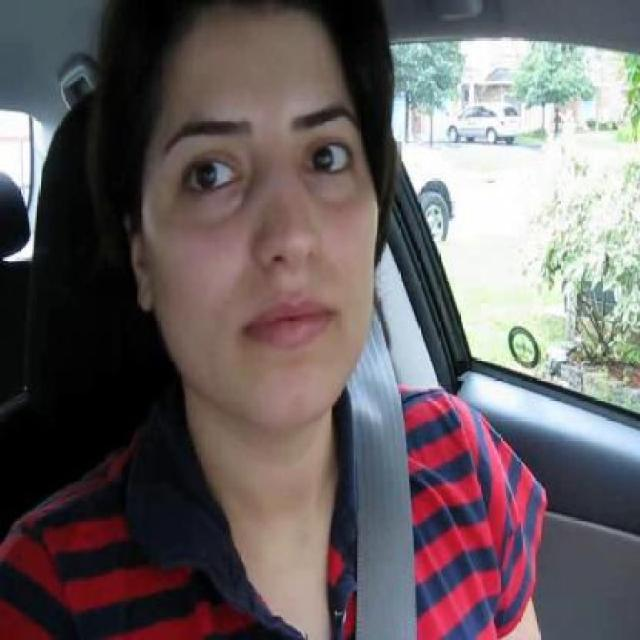awake: (181, 156, 241, 196), (302, 136, 353, 176)
